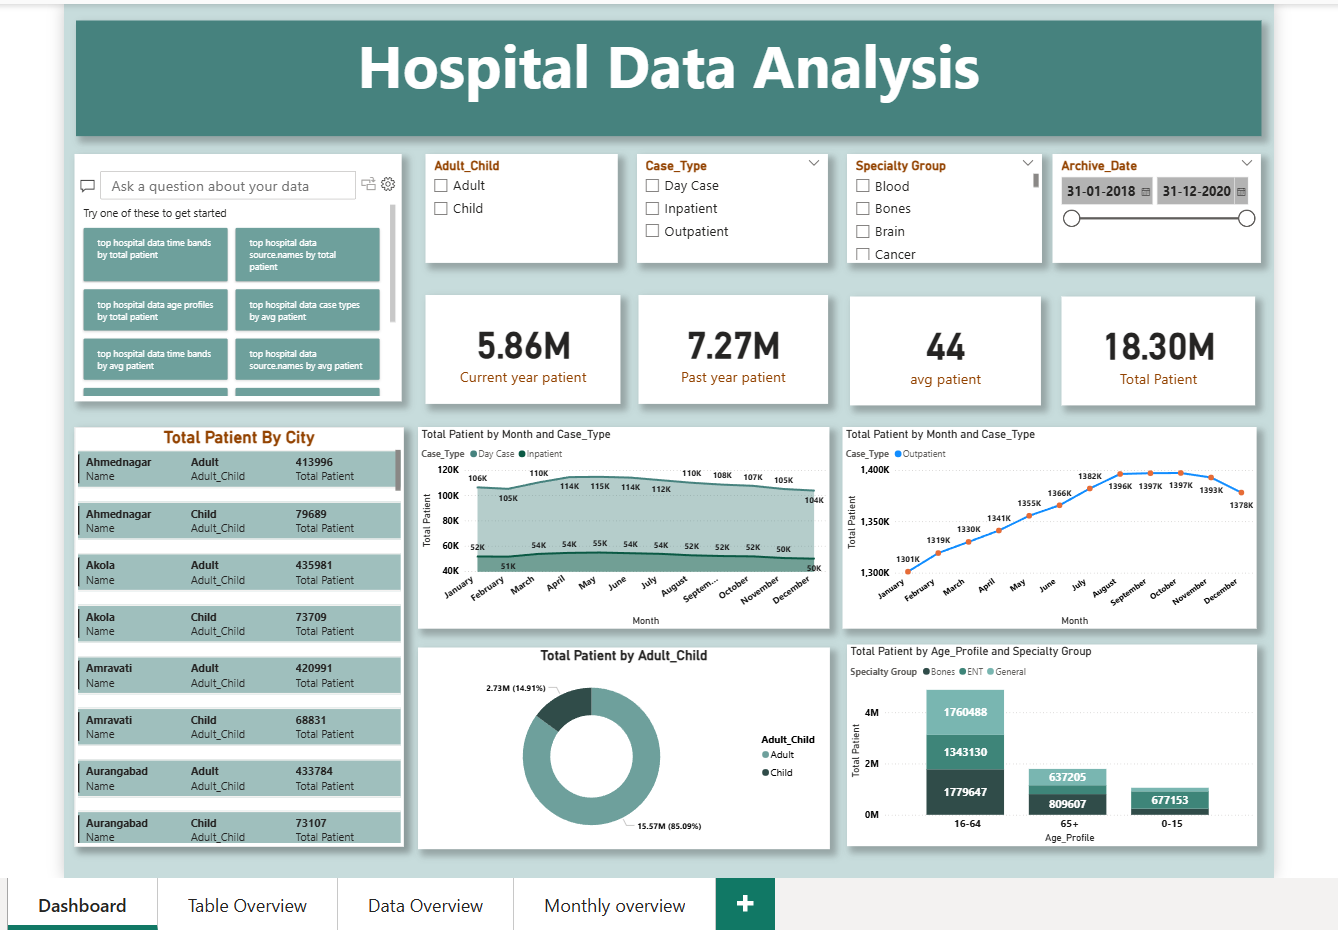

Layout of this report page (visuals, bound fields, positions):
{"tool":"powerbi","page":{"name":"Dashboard","canvas":[1800,1300],"ordinal":0},"visuals":[{"type":"group","id":"g1","title":"Group 1","box":[537.5,432.5,1232.5,162.5],"z":0},{"type":"card","fields":{"Values":["Measure Table.This Year patient"]},"box":[537.5,432.5,290,162],"z":0,"group":"g1"},{"type":"lineChart","fields":{"Y":["Measure Table.Total Patient"],"Category":["Hospital Data.Archive_Date.Variation.Date Hierarchy.Month"],"Series":["Hospital Data.Case_Type"]},"box":[525.9,629.5,612,300],"z":0,"group":"g2"},{"type":"card","fields":{"Values":["Measure Table.Past year patient"]},"box":[853.5,432.5,282,162],"z":1000,"group":"g1"},{"type":"group","id":"g2","title":"Group 2","box":[15.9,629.5,1758,627.5],"z":1000},{"type":"lineChart","fields":{"Y":["Measure Table.Total Patient"],"Category":["Hospital Data.Archive_Date.Variation.Date Hierarchy.Month"],"Series":["Hospital Data.Case_Type"]},"box":[1157.9,629.5,616,300],"z":1000,"group":"g2"},{"type":"group","id":"g3","title":"Group 3","box":[537,223.9,1241.3,163],"z":2000},{"type":"card","fields":{"Values":["Measure Table.avg patient"]},"box":[1169.5,434.5,284,162],"z":2000,"group":"g1"},{"type":"donutChart","fields":{"Y":["Measure Table.Total Patient"],"Category":["Hospital Data.Adult_Child"]},"box":[525.9,957,612.5,300],"z":2000,"group":"g2"},{"type":"textbox","box":[17.4,23.9,1763,171.7],"z":3000},{"type":"card","fields":{"Values":["Measure Table.Total Patient"]},"box":[1483.5,434.5,288,162],"z":3000,"group":"g1"},{"type":"columnChart","fields":{"Y":["Measure Table.Total Patient"],"Category":["Hospital Data.Age_Profile"],"Series":["Mapping_Specialty.Specialty Group"]},"box":[1163.9,953.5,610,300],"z":3000,"group":"g2"},{"type":"qnaVisual","box":[15.6,223.1,486.4,368.1],"z":4000},{"type":"multiRowCard","title":"Total Patient By City","fields":{"Values":["Dis Name MH.Name","Hospital Data.Adult_Child","Measure Table.Total Patient"]},"box":[15.9,629.5,490,624],"z":4000,"group":"g2"},{"type":"slicer","fields":{"Values":["Hospital Data.Adult_Child"]},"box":[537,223.9,286,162],"z":6000,"group":"g3"},{"type":"slicer","fields":{"Values":["Hospital Data.Case_Type"]},"box":[851,223.9,284,162],"z":7000,"group":"g3"},{"type":"slicer","fields":{"Values":["Mapping_Specialty.Specialty Group"]},"box":[1163,223.9,290,162],"z":8000,"group":"g3"},{"type":"slicer","fields":{"Values":["Hospital Data.Archive_Date"]},"box":[1469,224.9,310,162],"z":9000,"group":"g3"}]}

Visuals, with their boxes on the page's 1800x1300 design canvas (x1, y1, x2, y2). These are canvas units, not pixel positions in the 1338x930 screenshot, which may show the page scaled, cropped or inside an application window:
"Group 1" group: box(538, 432, 1770, 595)
card - Measure Table.This Year patient: box(538, 432, 828, 594)
lineChart - Measure Table.Total Patient x Hospital Data.Archive_Date.Variation.Date Hierarchy.Month: box(526, 630, 1138, 930)
card - Measure Table.Past year patient: box(854, 432, 1136, 594)
"Group 2" group: box(16, 630, 1774, 1257)
lineChart - Measure Table.Total Patient x Hospital Data.Archive_Date.Variation.Date Hierarchy.Month: box(1158, 630, 1774, 930)
"Group 3" group: box(537, 224, 1778, 387)
card - Measure Table.avg patient: box(1170, 434, 1454, 596)
donutChart - Measure Table.Total Patient x Hospital Data.Adult_Child: box(526, 957, 1138, 1257)
textbox: box(17, 24, 1780, 196)
card - Measure Table.Total Patient: box(1484, 434, 1772, 596)
columnChart - Measure Table.Total Patient x Hospital Data.Age_Profile: box(1164, 954, 1774, 1254)
qnaVisual: box(16, 223, 502, 591)
"Total Patient By City" multiRowCard: box(16, 630, 506, 1254)
slicer - Hospital Data.Adult_Child: box(537, 224, 823, 386)
slicer - Hospital Data.Case_Type: box(851, 224, 1135, 386)
slicer - Mapping_Specialty.Specialty Group: box(1163, 224, 1453, 386)
slicer - Hospital Data.Archive_Date: box(1469, 225, 1779, 387)
